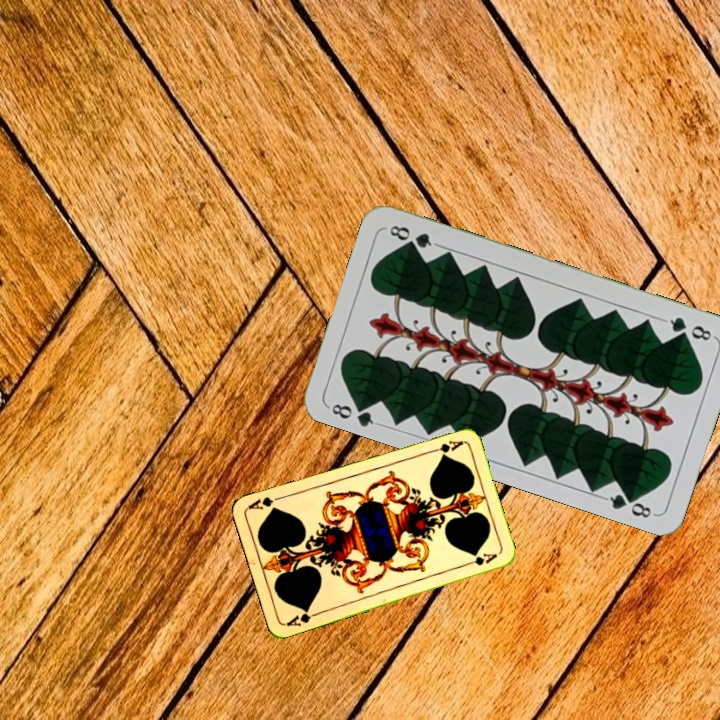G8: (324, 396, 382, 429), (660, 312, 717, 344)
GA: (282, 605, 322, 629), (425, 436, 465, 456)
